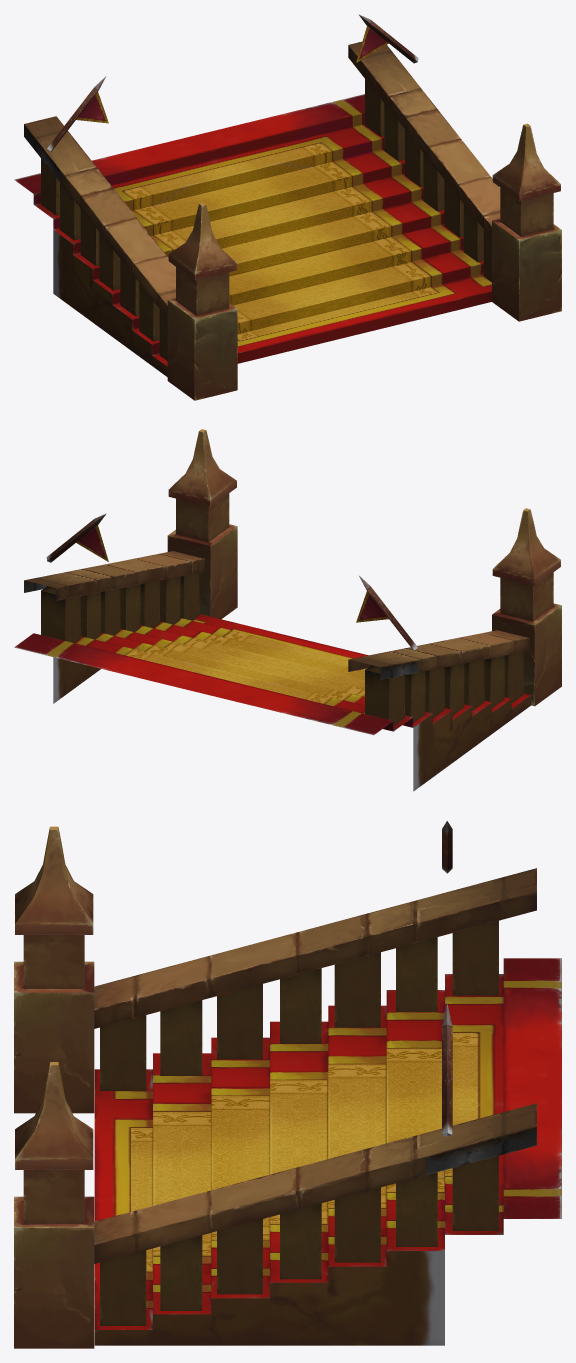
The model's file is Stage_01_02_DaMen.FBX.
3 views of the same model, one above another, from view 1: azimuth 30°, elevation 25°; view 2: azimuth 150°, elevation 25°; view 3: azimuth 270°, elevation 25° (orthographic). The views are drawn at different scales.
Visible parts, largest first — view 1: Stage_01_02_DaMen; view 2: Stage_01_02_DaMen; view 3: Stage_01_02_DaMen.
Part boxes in pixels (<box>): Stage_01_02_DaMen: <box>14,14,561,400</box>; Stage_01_02_DaMen: <box>14,429,561,791</box>; Stage_01_02_DaMen: <box>14,821,561,1348</box>.
Size of the model in its own units: 1321 by 695 by 1136.
